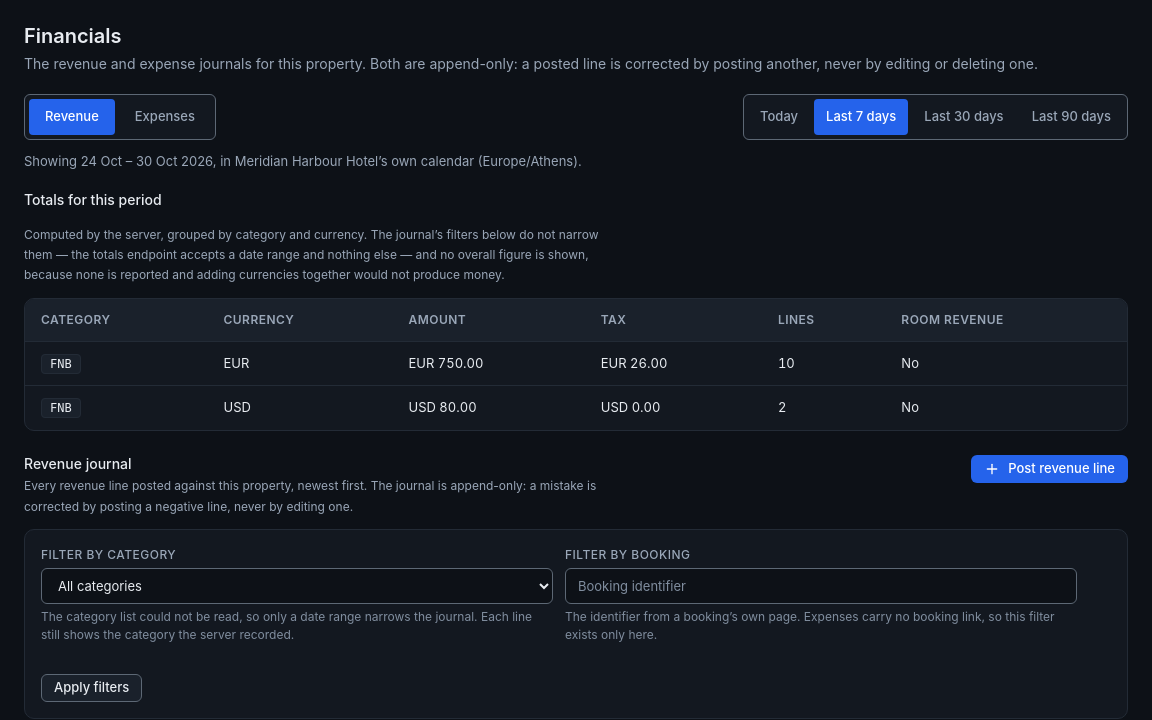
Scenario: the shared category catalogue › offers a typed code, and says why, when the catalogue cannot be read
This screenshot has width=1152, height=720.
expect the text "category list could not be read" is shown: met, box 41,609 -> 532,642
Step 1. Click the button "Post revenue line" → {"x": 1050, "y": 469}, box 971,455 -> 1128,483
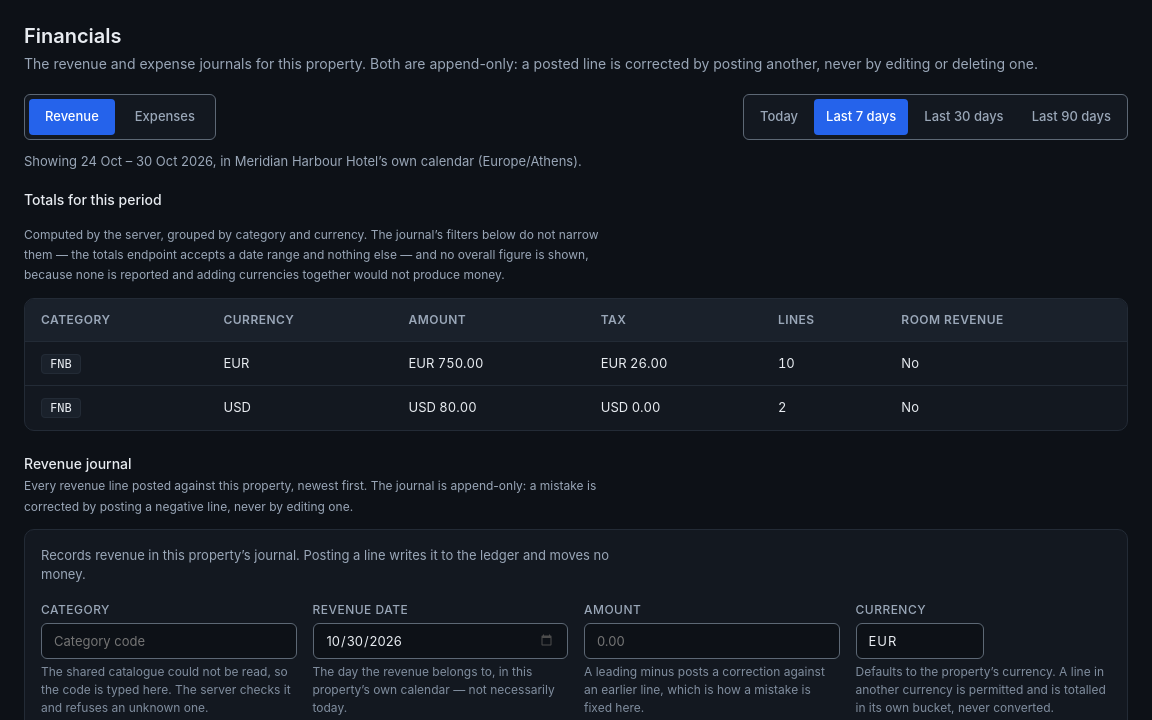
expect the text "server checks it and refuses an unknown one" is shown: met, box 41,664 -> 291,715
